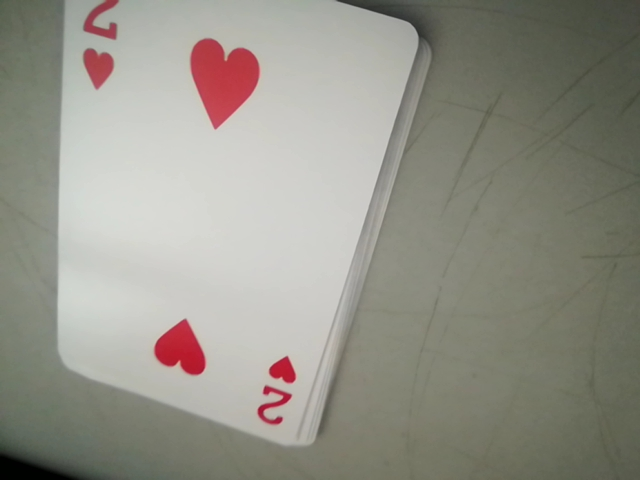hx 2: (248, 363, 305, 435)
